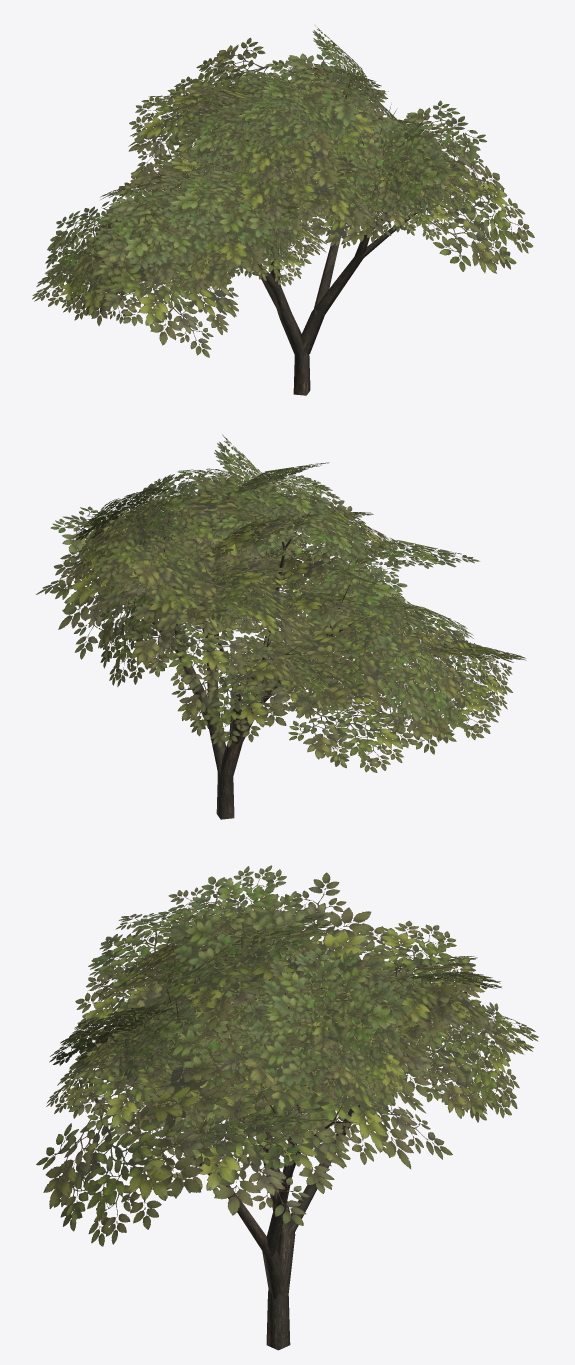
File: tree4.glb
3 views of the same model, one above another, from view 1: azimuth 30°, elevation 25°; view 2: azimuth 150°, elevation 25°; view 3: azimuth 270°, elevation 25° (orthographic). The views are drawn at different scales.
Parts seen in each view (by area): view 1: 旧树; view 2: 旧树; view 3: 旧树.
Boxes of the visible parts, <box> form: 旧树: <box>32,25,534,395</box>; 旧树: <box>36,434,526,819</box>; 旧树: <box>36,865,538,1350</box>.
Size of the model in its own units: 7.33 by 5.06 by 5.58.
2 materials, 2 textured.
